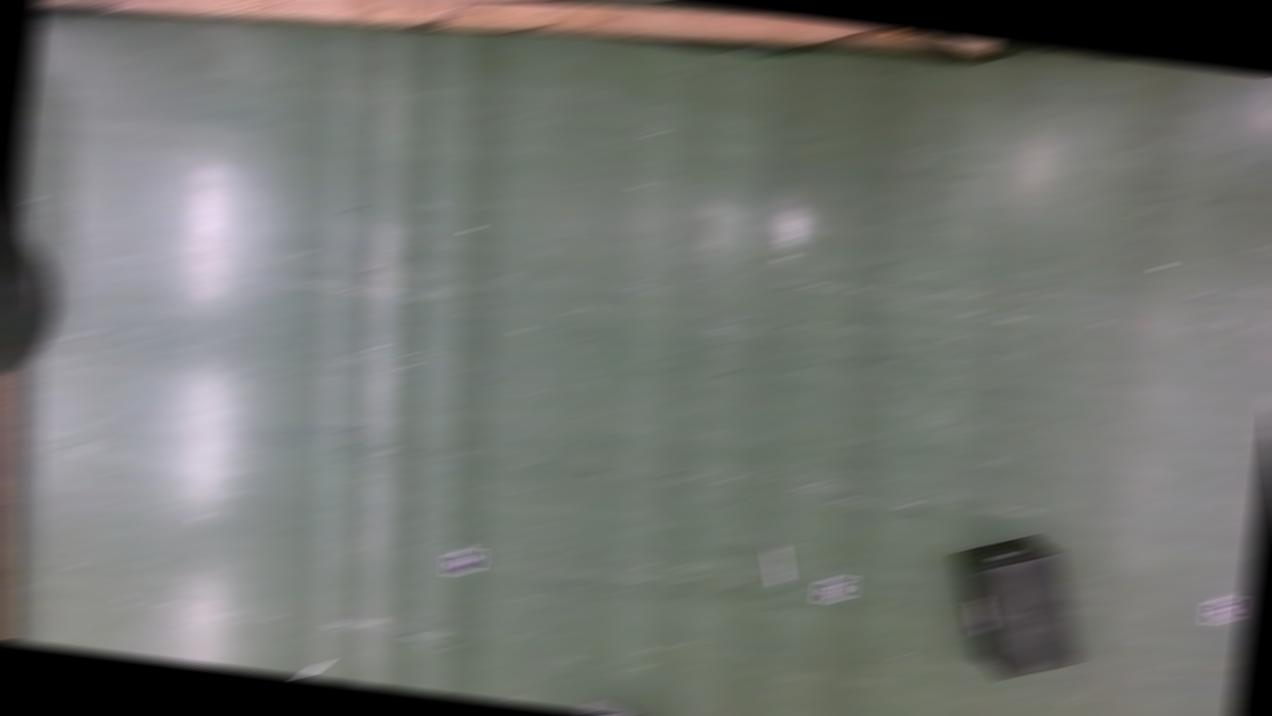probes: (765, 544, 791, 582), (296, 660, 328, 679)
rako: (940, 527, 1094, 684)
